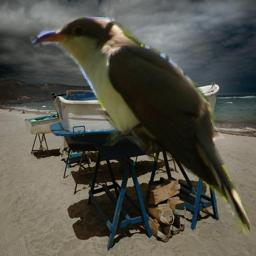Cuckoo: (30, 17, 250, 236)
